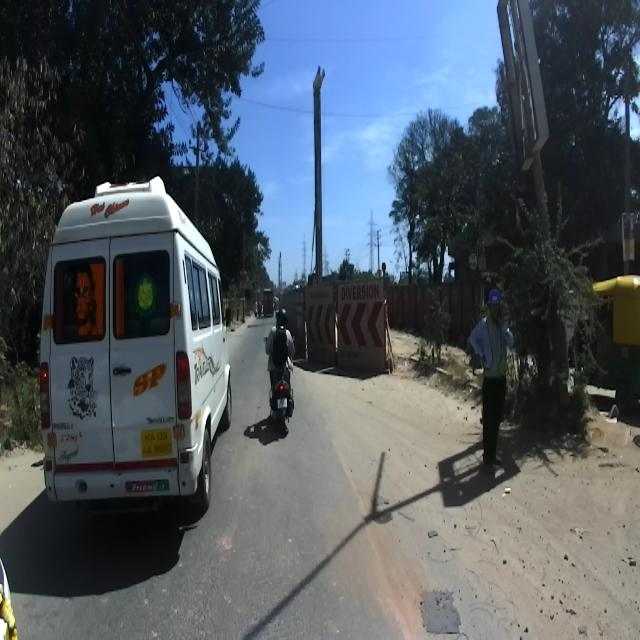bus ahead at: (46, 172, 235, 514)
motorcycle ahead at: (266, 373, 299, 433)
person ahead at: (466, 267, 514, 490)
